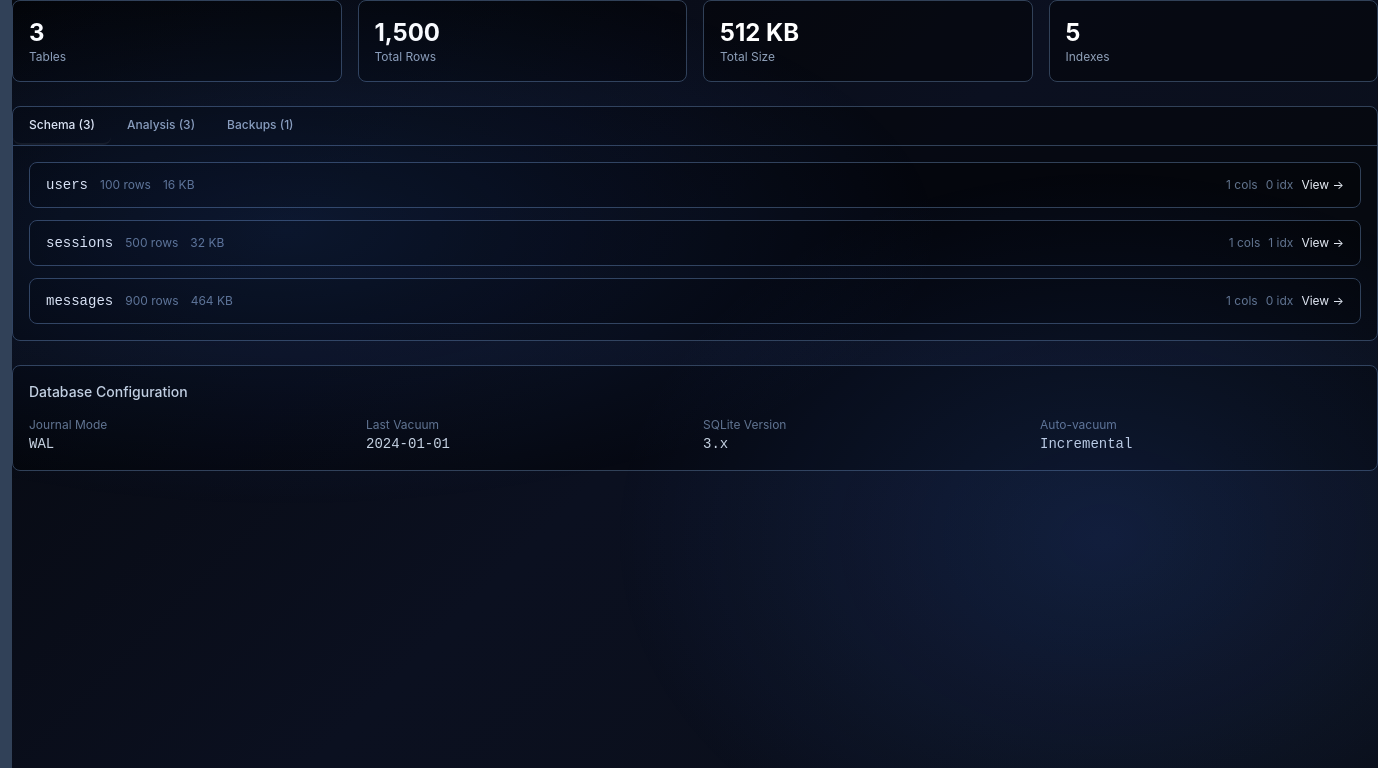
Test: DatabasePanel › renders backups tab
What coordinates should you click on to do the following:
click the button "Backups (1)"
I would click on:
 (260, 126)
Its box is x1=211 y1=107 x2=310 y2=145.
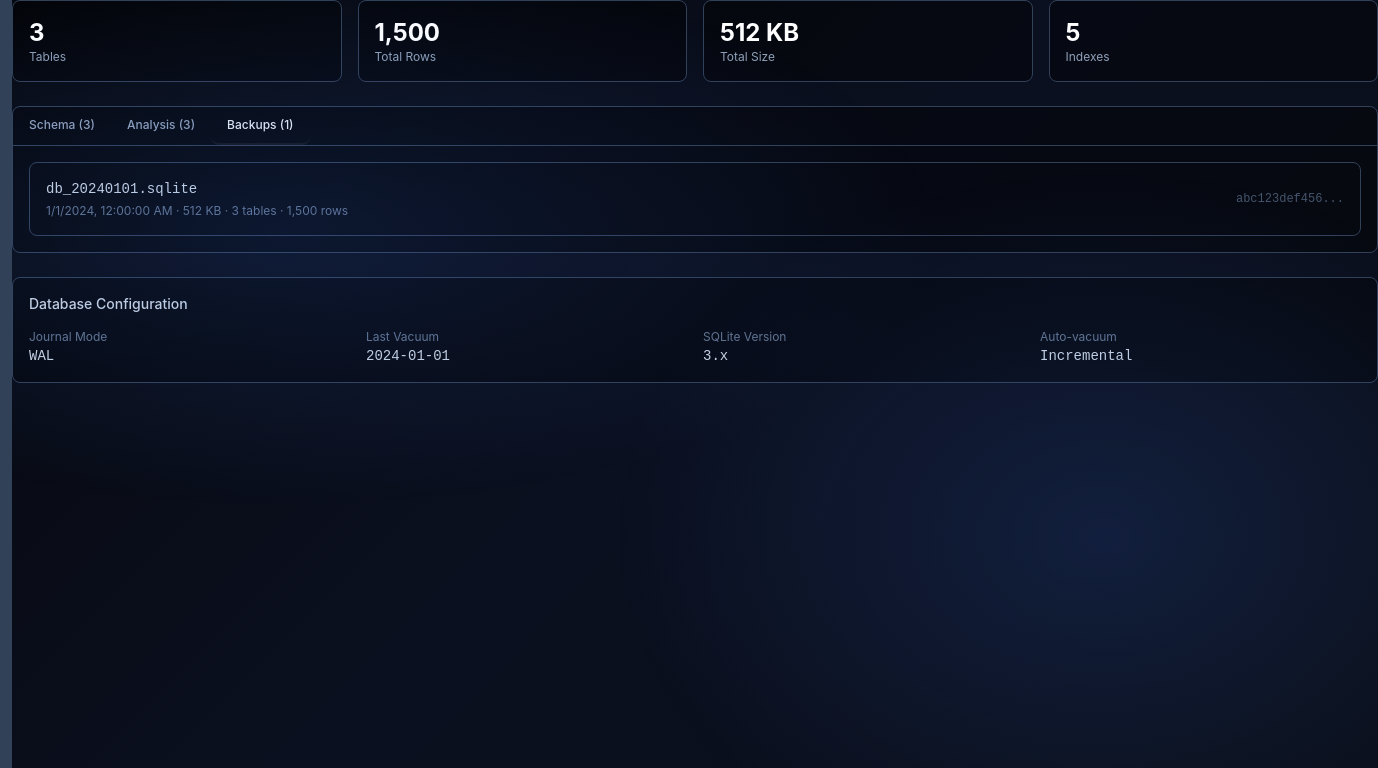
Expected: the text "db_20240101.sqlite" is shown, x1=46 y1=181 x2=197 y2=197
